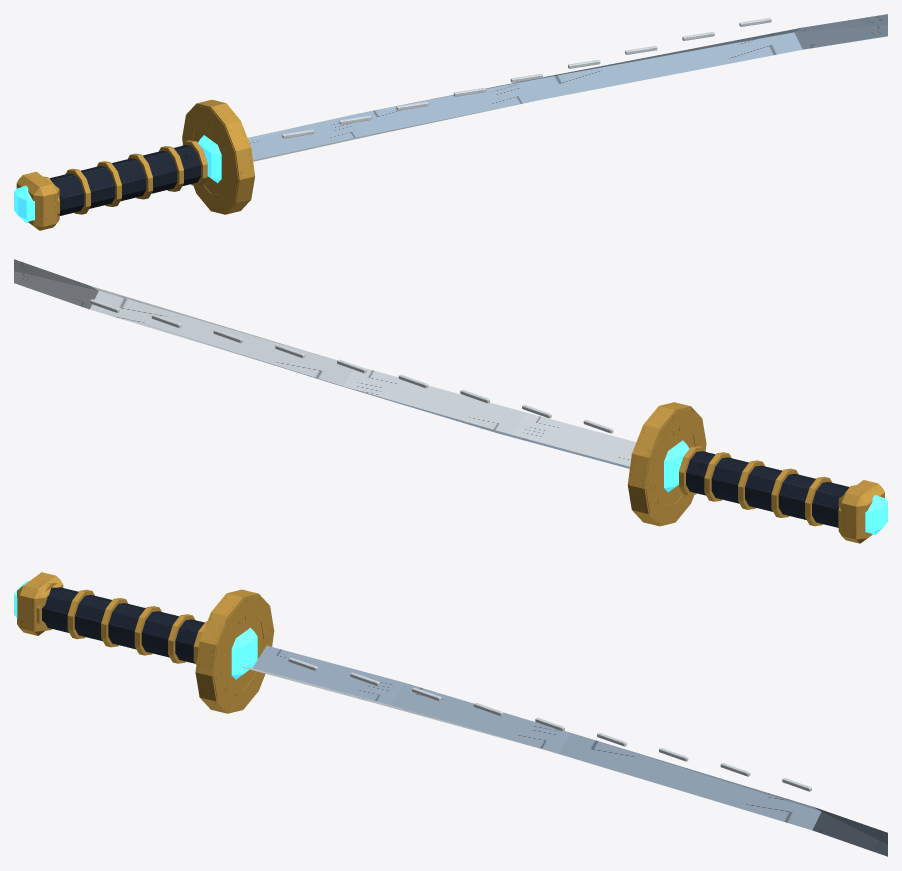
Rendered from katana.glb.
3 renders of one model, top to bottom at view 1: azimuth 30°, elevation 25°; view 2: azimuth 150°, elevation 25°; view 3: azimuth 330°, elevation 25°, orthographic. The views are drawn at different scales.
Visible parts, largest first — view 1: blade, grip, guard; view 2: blade, grip, guard; view 3: blade, grip, guard.
Part boxes in pixels (x1,y1,x2,y2): blade: (247,14,887,161); grip: (14,140,207,230); guard: (182,99,254,214); blade: (14,259,636,468); grip: (679,446,887,543); guard: (627,402,706,526); blade: (240,645,887,856); grip: (14,572,207,664); guard: (195,589,274,713).
Size of the model in its own units: 1.03 by 0.122 by 0.1312.
Materials: 5 (5 with a texture image).
